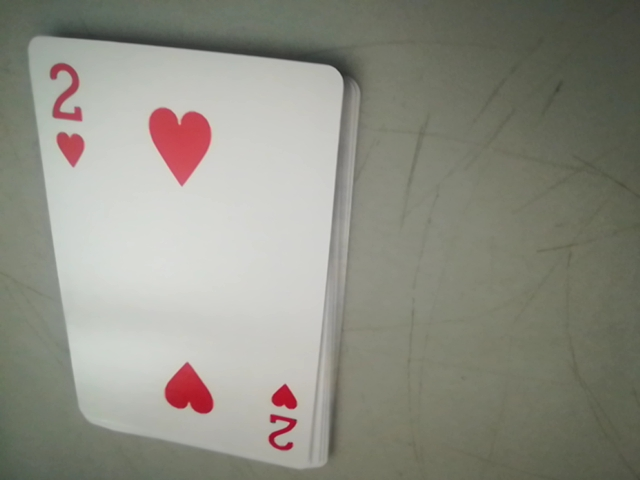hx 2: (263, 392, 310, 461)
